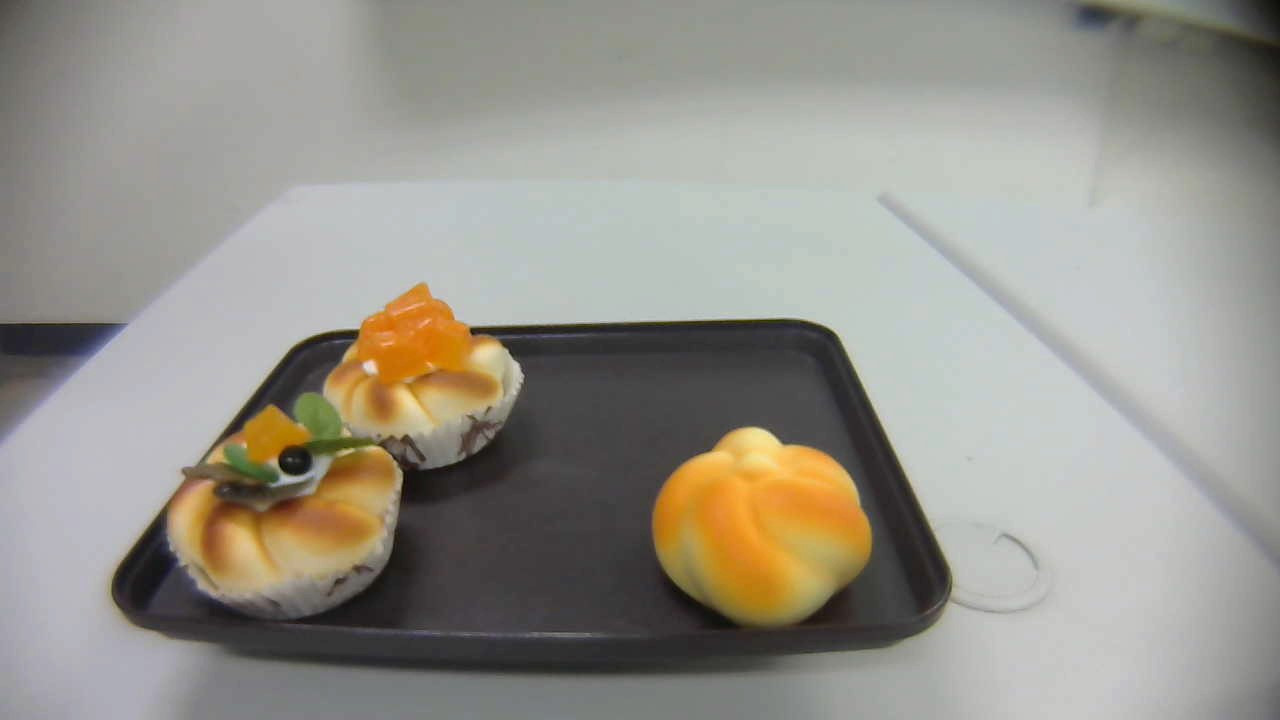fruit tart: (165, 391, 405, 623)
mango tart: (323, 283, 525, 469)
twist bread: (651, 424, 873, 629)
